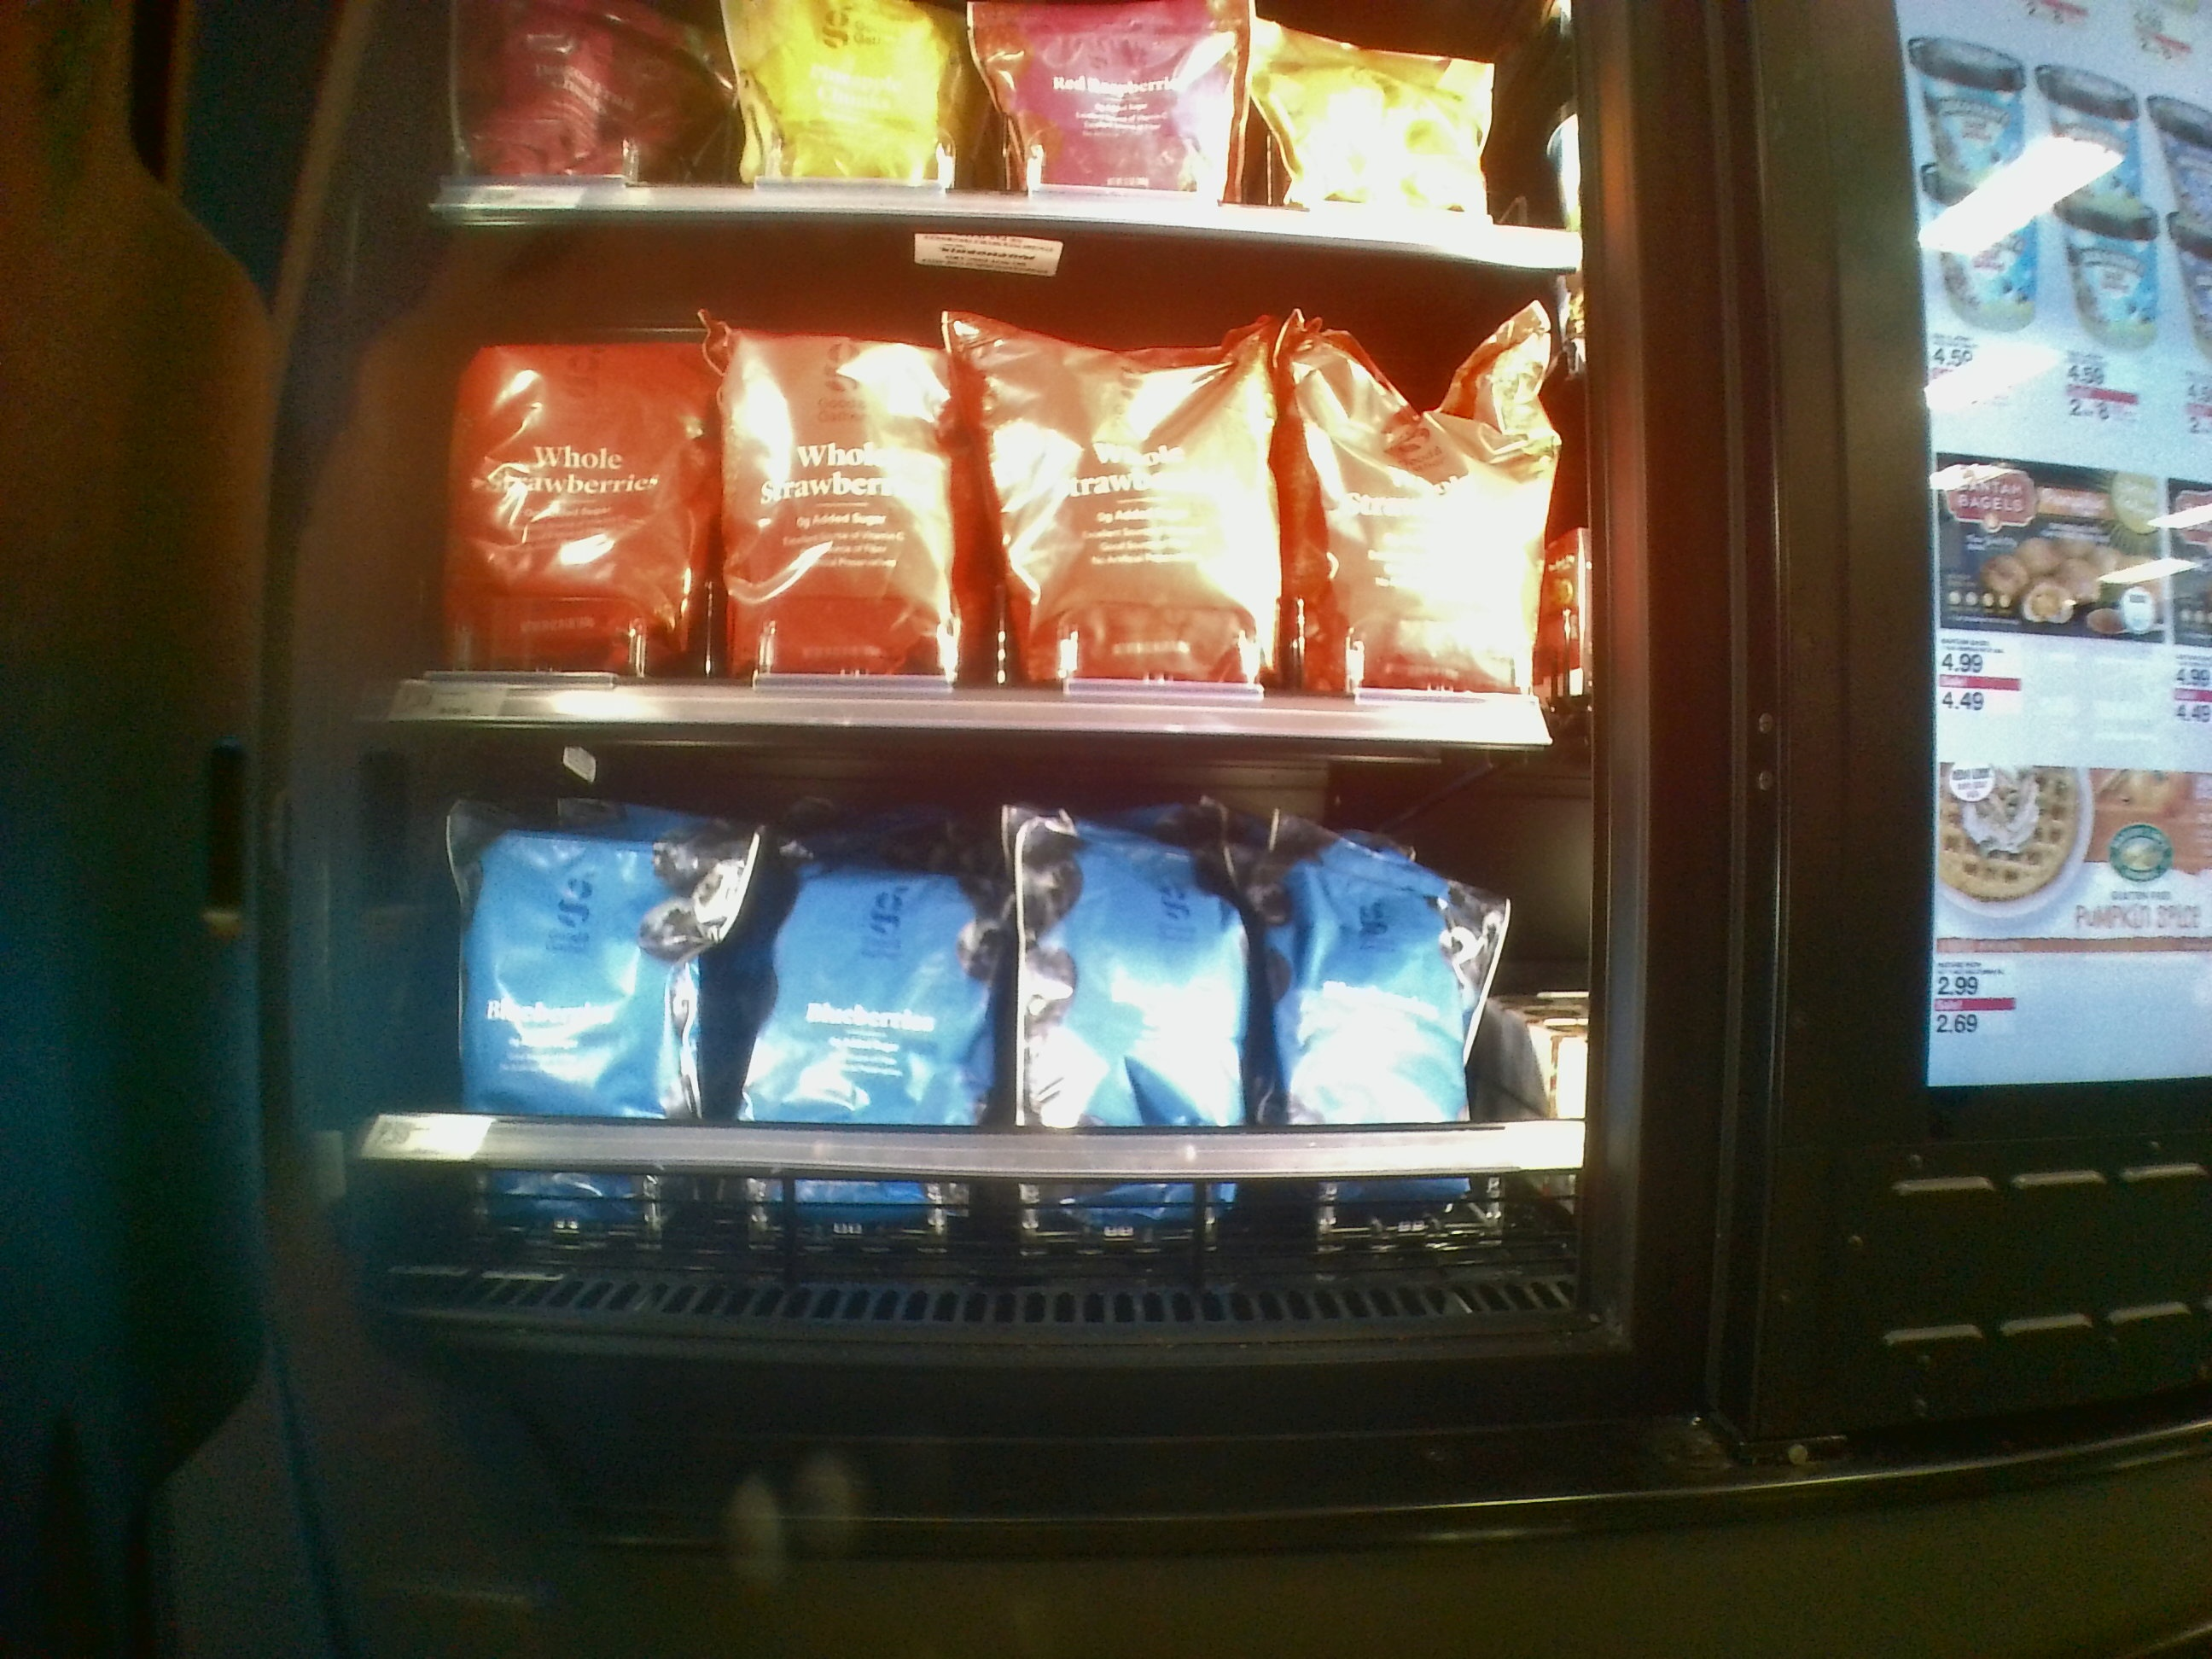shelf: (366, 741, 1594, 1307), (397, 221, 1578, 741)
